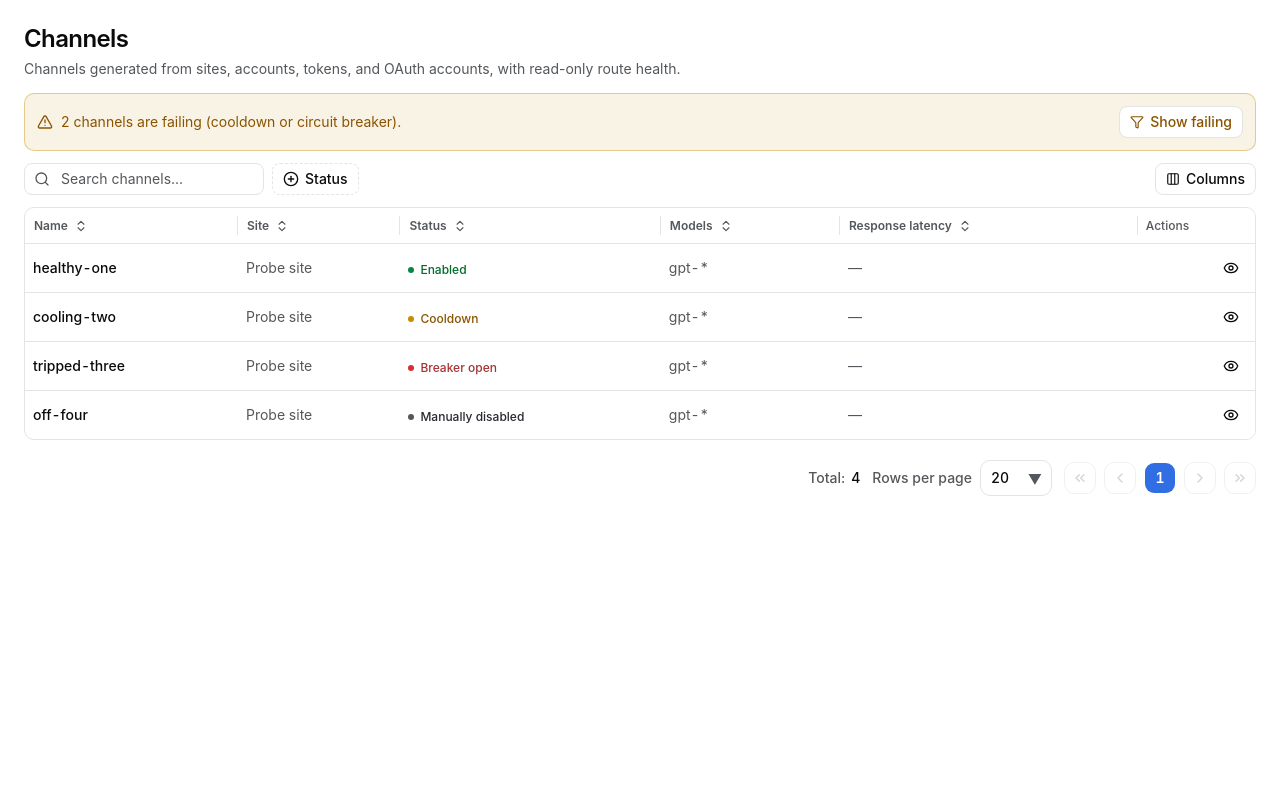
Test: ChannelsPage status facet › offers every real routing status as an option
The image size is (1280, 800).
Click the 1st button "Status": click(315, 179) top-left (272, 163), bottom-right (359, 195)
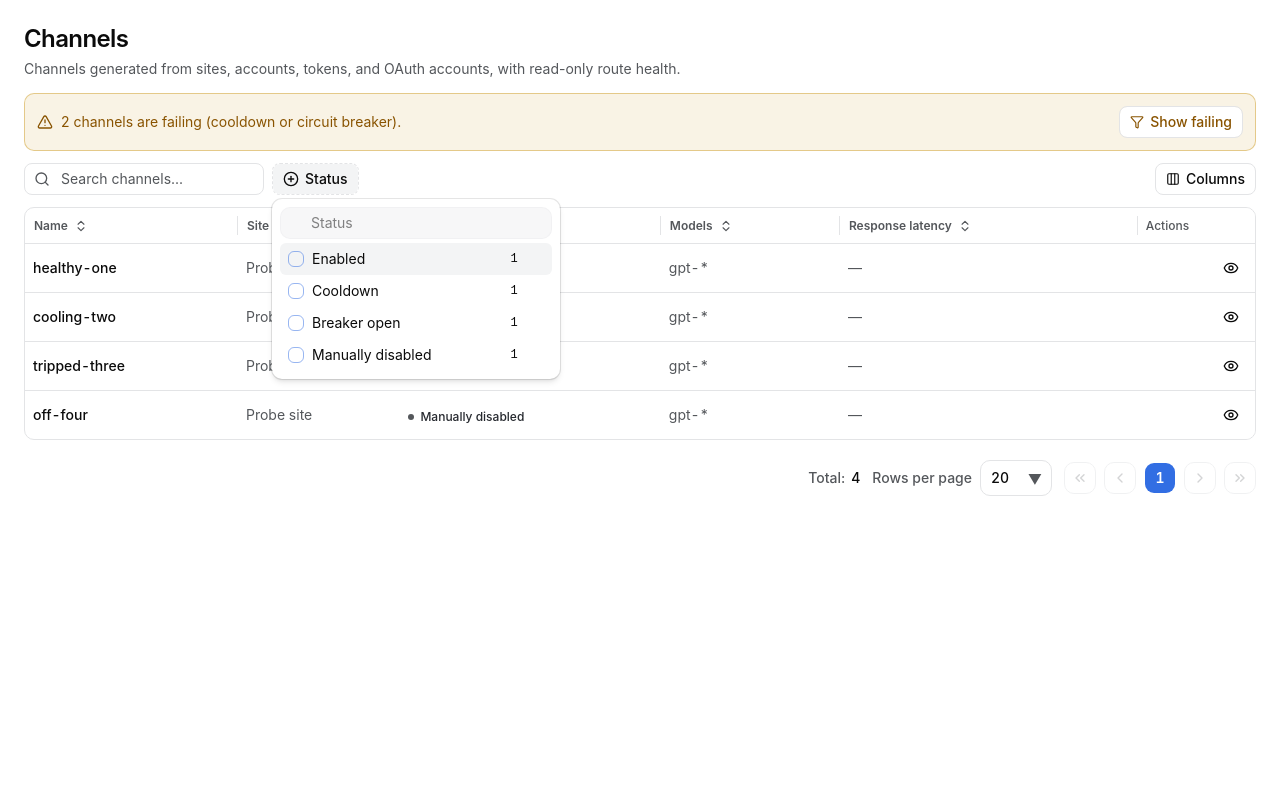
Expected: the option "Enabled 1" is shown, top-left (280, 243), bottom-right (552, 275)
Expected: the option "Cooldown 1" is shown, top-left (288, 282), bottom-right (518, 299)
Expected: the option "Breaker open 1" is shown, top-left (288, 314), bottom-right (518, 331)
